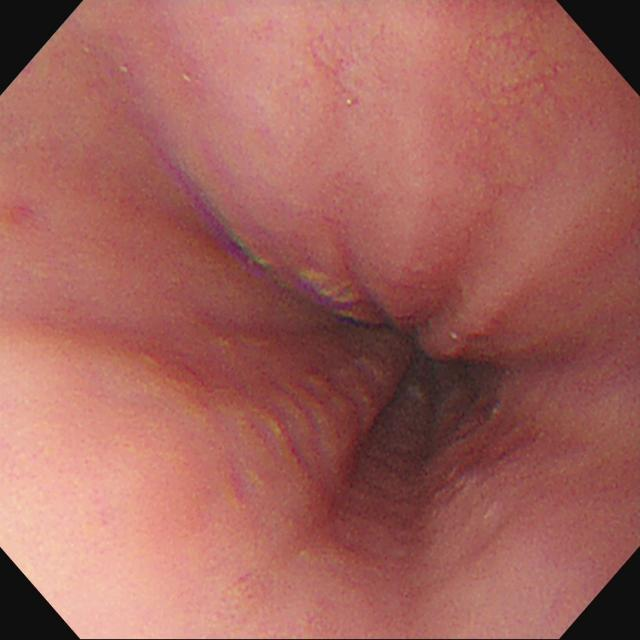E: (346, 293, 500, 447)
